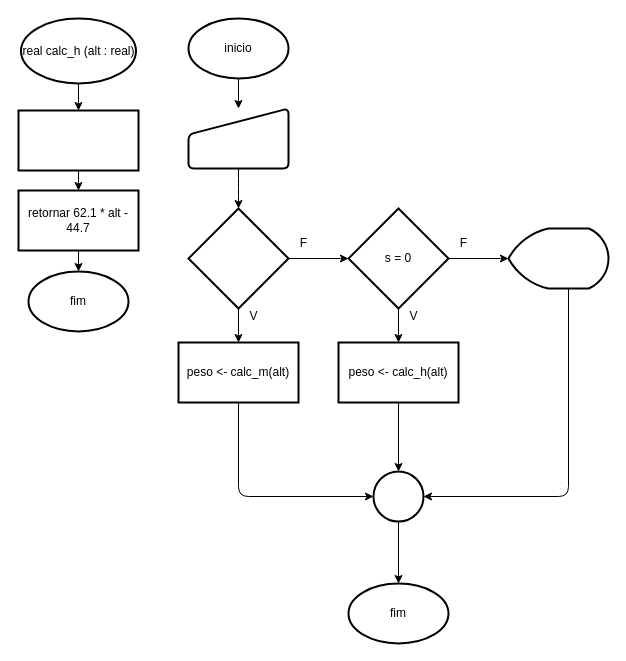
This 626x661 diagram has some shape labels left out. The shapes that lost their labels are listed below. From the top down, each one's centre as x and y in pixels, then its label:
At point 78,140: "retornar 72.2 * alt - 58".
At point 238,138: "alt, peso, s".
At point 238,258: "s = 1".
At point 558,258: "Digite valores validos!!!".
